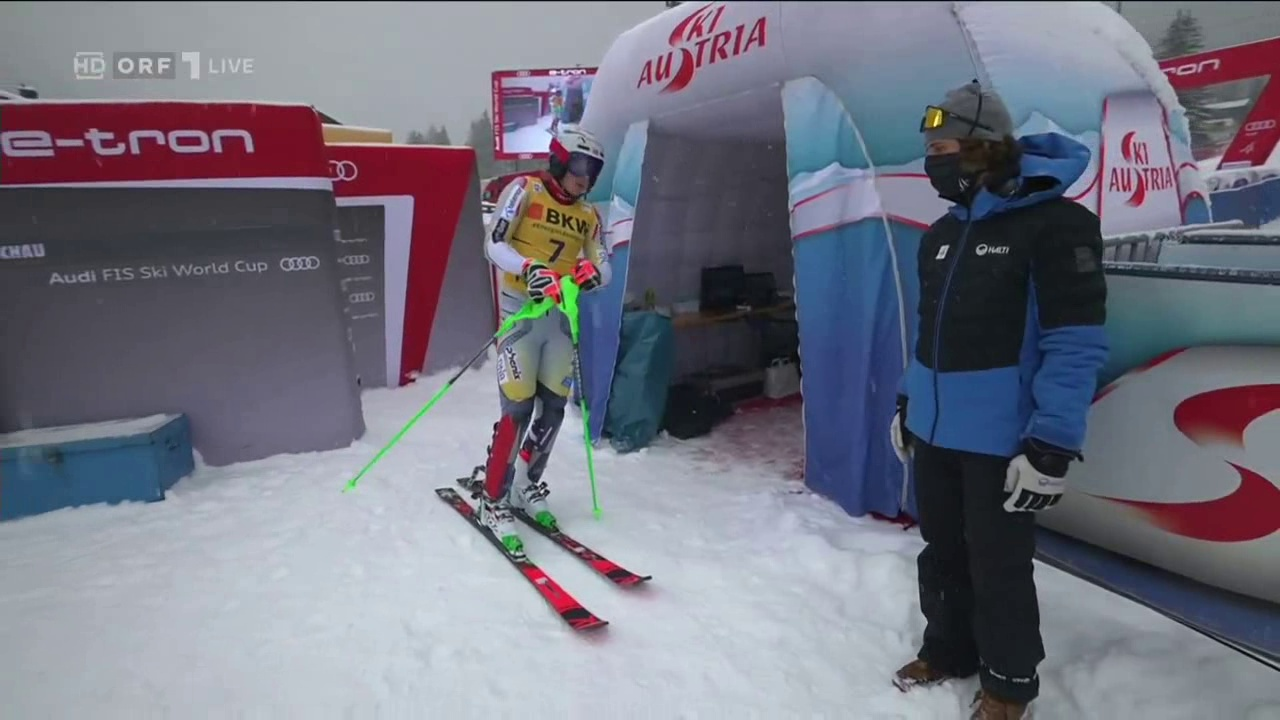audi: (277, 257, 324, 277), (326, 159, 359, 184)
etron: (24, 125, 239, 167)
rauch: (535, 204, 596, 236)
